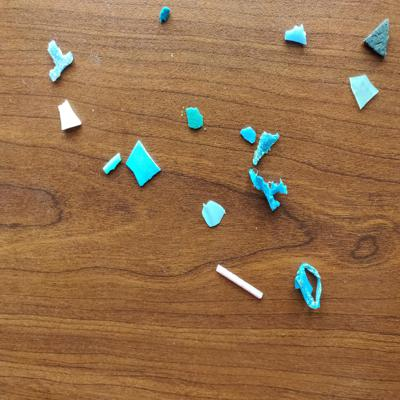plastic: (213, 263, 269, 304), (123, 139, 164, 191), (246, 168, 290, 213), (40, 35, 80, 84), (290, 261, 326, 313), (358, 14, 393, 62), (342, 70, 381, 113), (55, 97, 88, 134), (251, 127, 281, 165), (198, 199, 228, 232), (281, 21, 312, 48), (184, 101, 207, 133), (101, 150, 124, 177), (155, 6, 179, 28), (238, 123, 258, 146)
